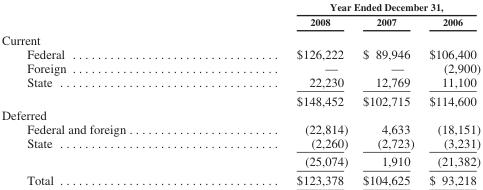table: (0, 0, 479, 187)
table column: (0, 0, 210, 187), (210, 0, 354, 187), (354, 0, 421, 187), (421, 0, 479, 187)
table column header: (0, 0, 479, 30)
table projected row header: (0, 30, 479, 46), (0, 107, 479, 121)
table row: (0, 151, 479, 170), (0, 74, 479, 91), (0, 170, 479, 187), (0, 14, 479, 30), (0, 30, 479, 46), (0, 91, 479, 107), (0, 135, 479, 151), (0, 0, 479, 14), (0, 46, 479, 60), (0, 60, 479, 74), (0, 107, 479, 121), (0, 121, 479, 135)
table spanning cell: (210, 0, 479, 14)
